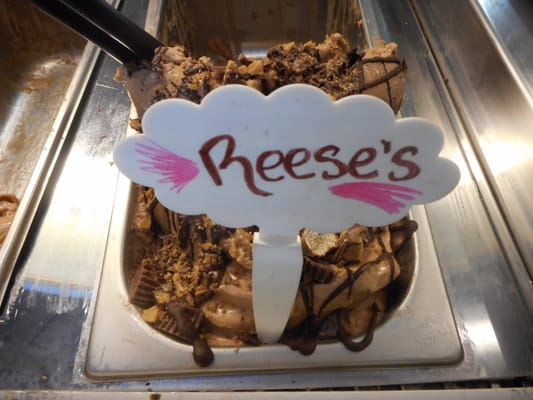sushi: (114, 75, 461, 356)
